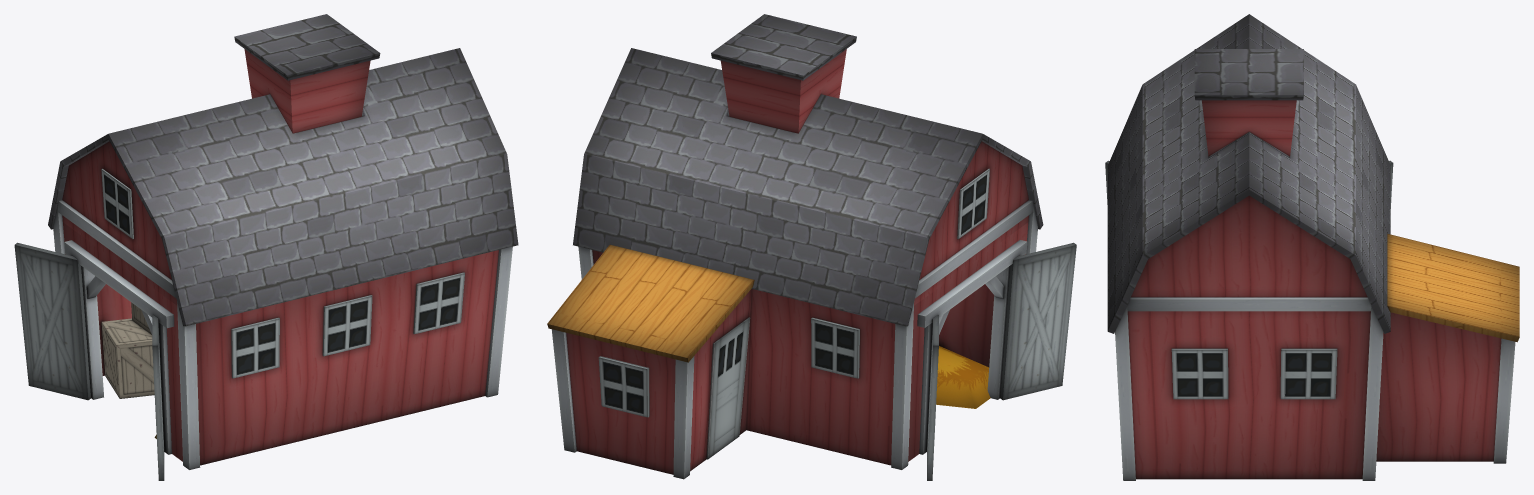
Rendered from barn.FBX.
The picture shows the model from 3 angles, left to right: view 1: azimuth 30°, elevation 25°; view 2: azimuth 150°, elevation 25°; view 3: azimuth 270°, elevation 25°; orthographic projection. The views are drawn at different scales.
Visible parts, largest first — view 1: barn01; view 2: barn01; view 3: barn01.
Boxes of the visible parts, <box> form: barn01: <box>14,14,518,480</box>; barn01: <box>547,14,1076,480</box>; barn01: <box>1105,14,1519,480</box>.
Size of the model in its own units: 62.79 by 58.49 by 53.6.
